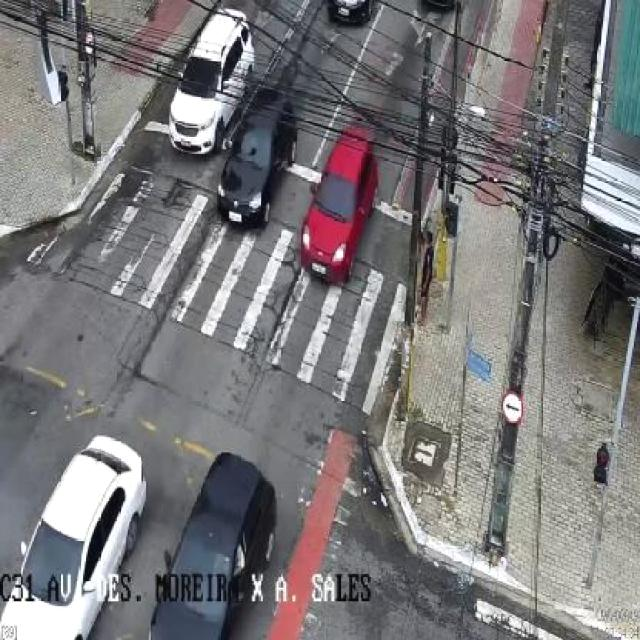Car: (0, 416, 146, 640), (148, 444, 306, 640), (294, 109, 398, 291), (212, 85, 309, 235), (320, 0, 377, 33)
Van: (167, 12, 261, 160)
